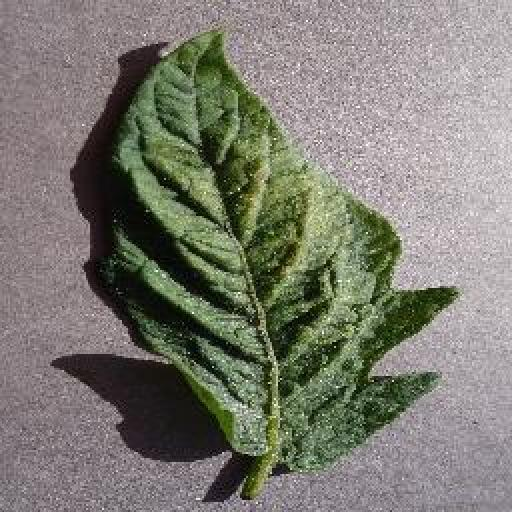Spider Mites: (102, 20, 460, 472)
